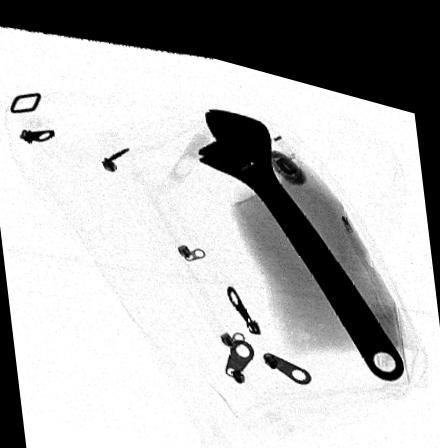Wrench: (193, 93, 406, 362)
